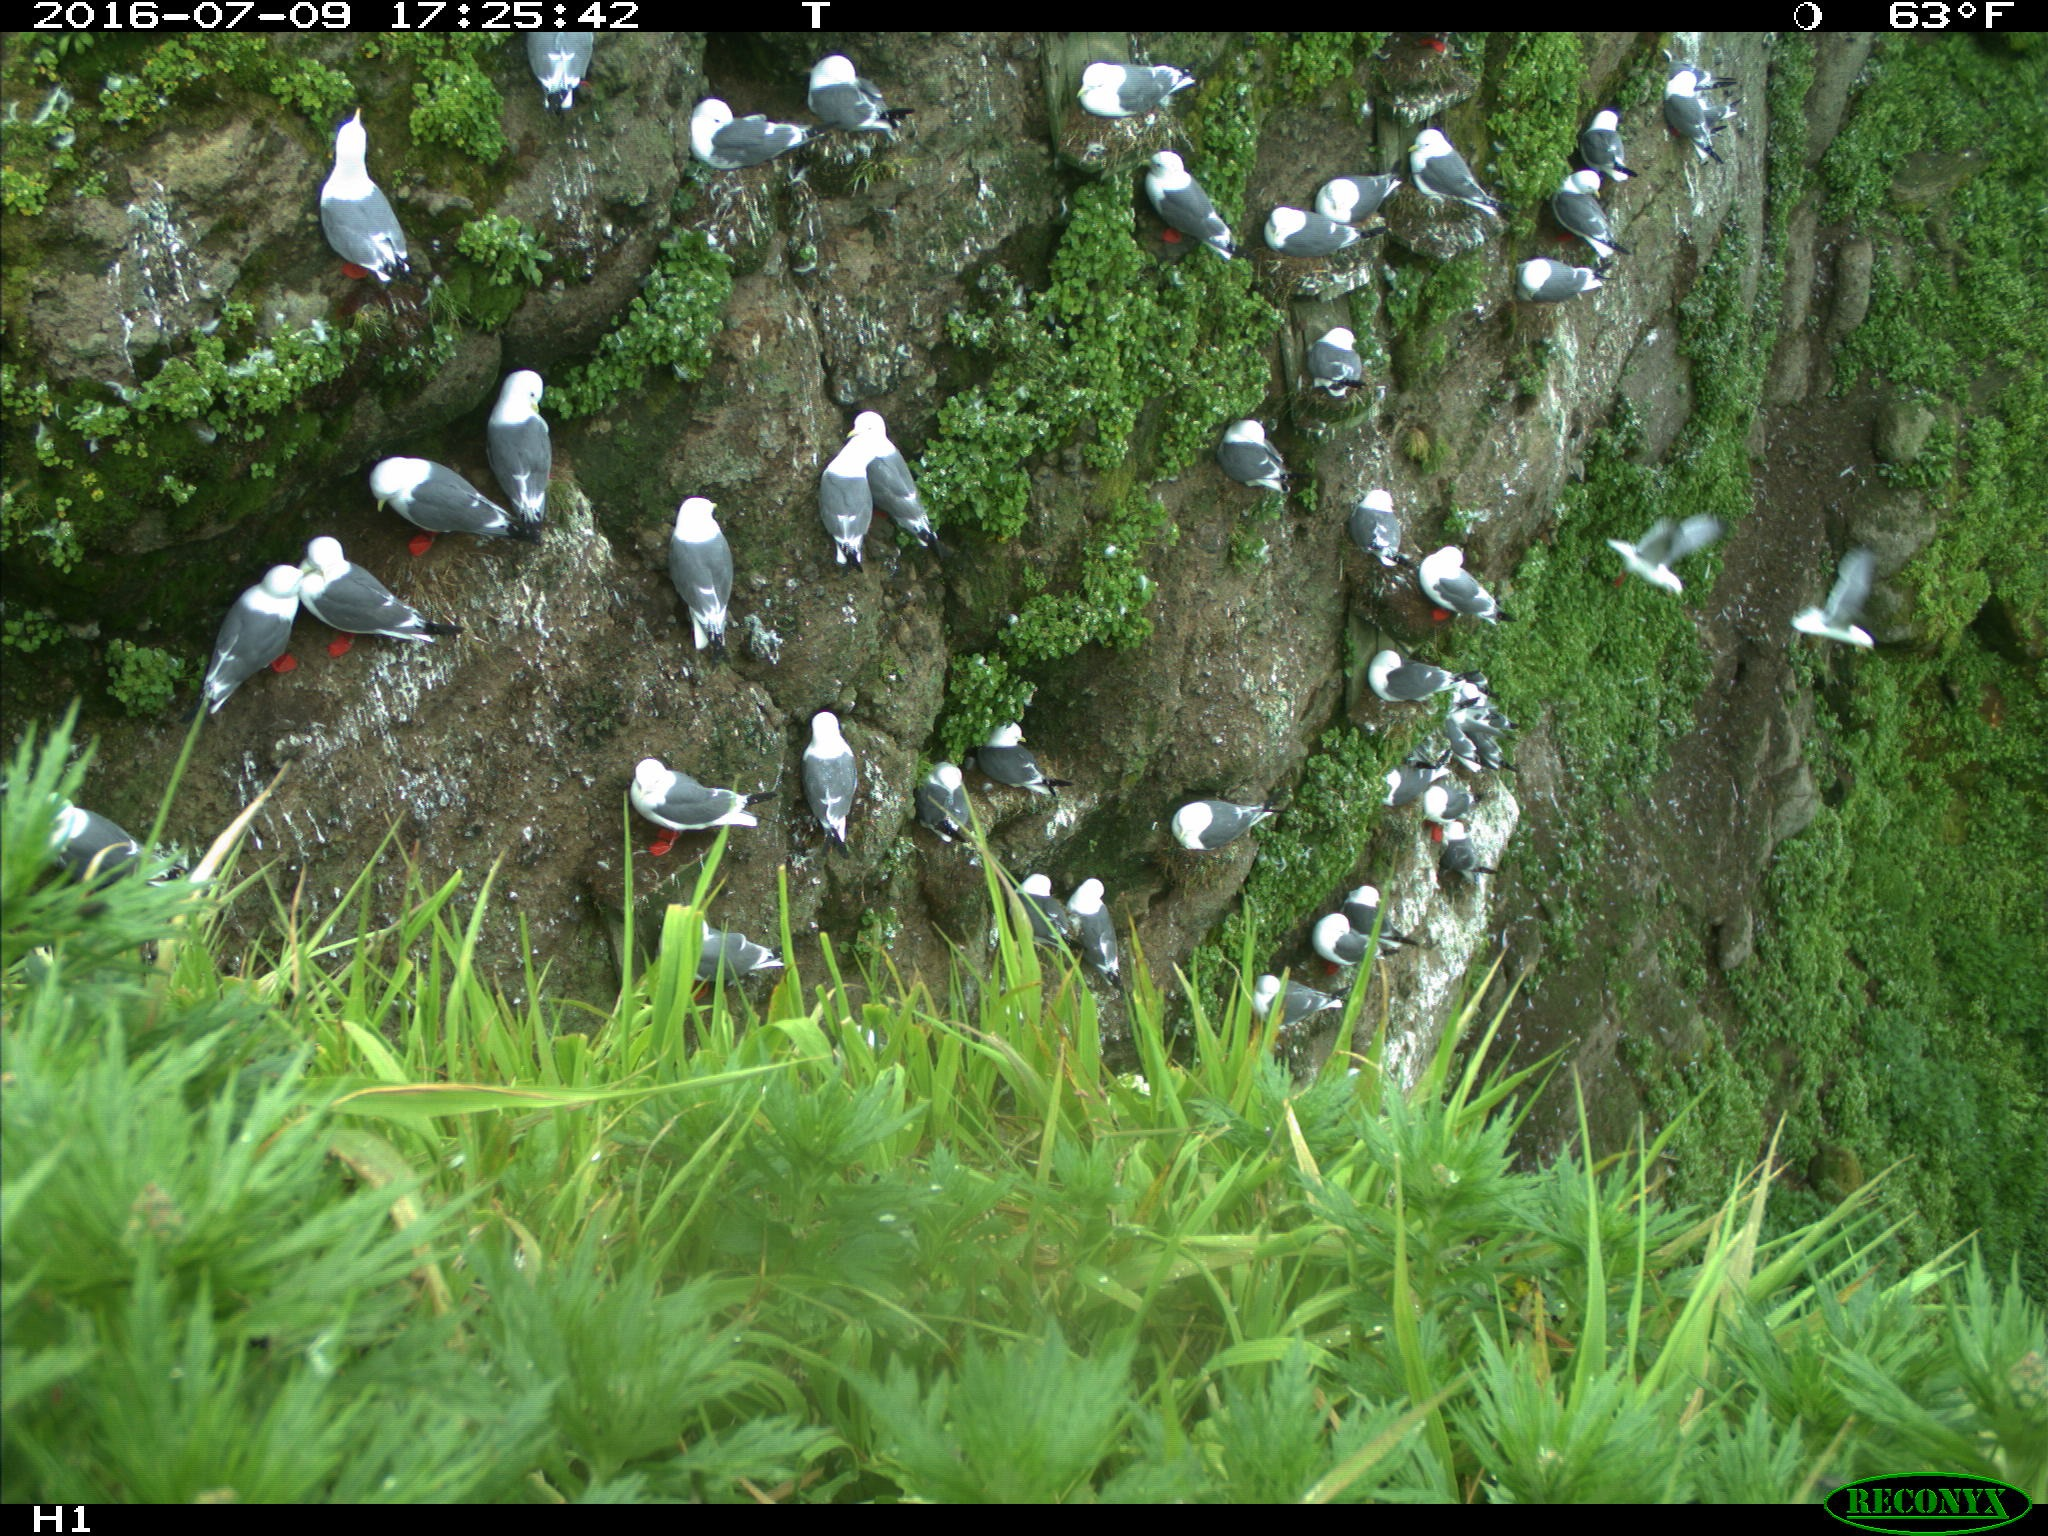Kittiwake: (308, 110, 505, 286), (293, 524, 456, 708), (343, 424, 477, 603), (226, 545, 347, 741), (471, 358, 592, 545), (655, 494, 808, 628), (1135, 106, 1238, 281), (835, 415, 947, 558), (676, 82, 822, 189), (782, 703, 871, 878), (1395, 111, 1513, 231), (611, 737, 706, 884), (1150, 779, 1284, 879), (1195, 392, 1305, 508), (682, 879, 789, 997), (806, 432, 895, 566), (1292, 307, 1421, 395), (1417, 507, 1493, 650), (790, 48, 919, 132), (908, 747, 993, 868), (980, 712, 1061, 836), (1063, 871, 1129, 1018), (1074, 31, 1174, 127), (993, 850, 1071, 975), (1264, 189, 1366, 281), (1243, 949, 1326, 1060), (1314, 145, 1397, 250), (1297, 908, 1401, 987), (1355, 645, 1480, 708), (522, 27, 608, 119), (1596, 102, 1693, 181), (1329, 876, 1450, 939), (1509, 245, 1613, 310), (1413, 768, 1484, 862), (1550, 97, 1621, 186), (1542, 173, 1613, 258), (1342, 471, 1409, 558), (1376, 742, 1434, 818)
